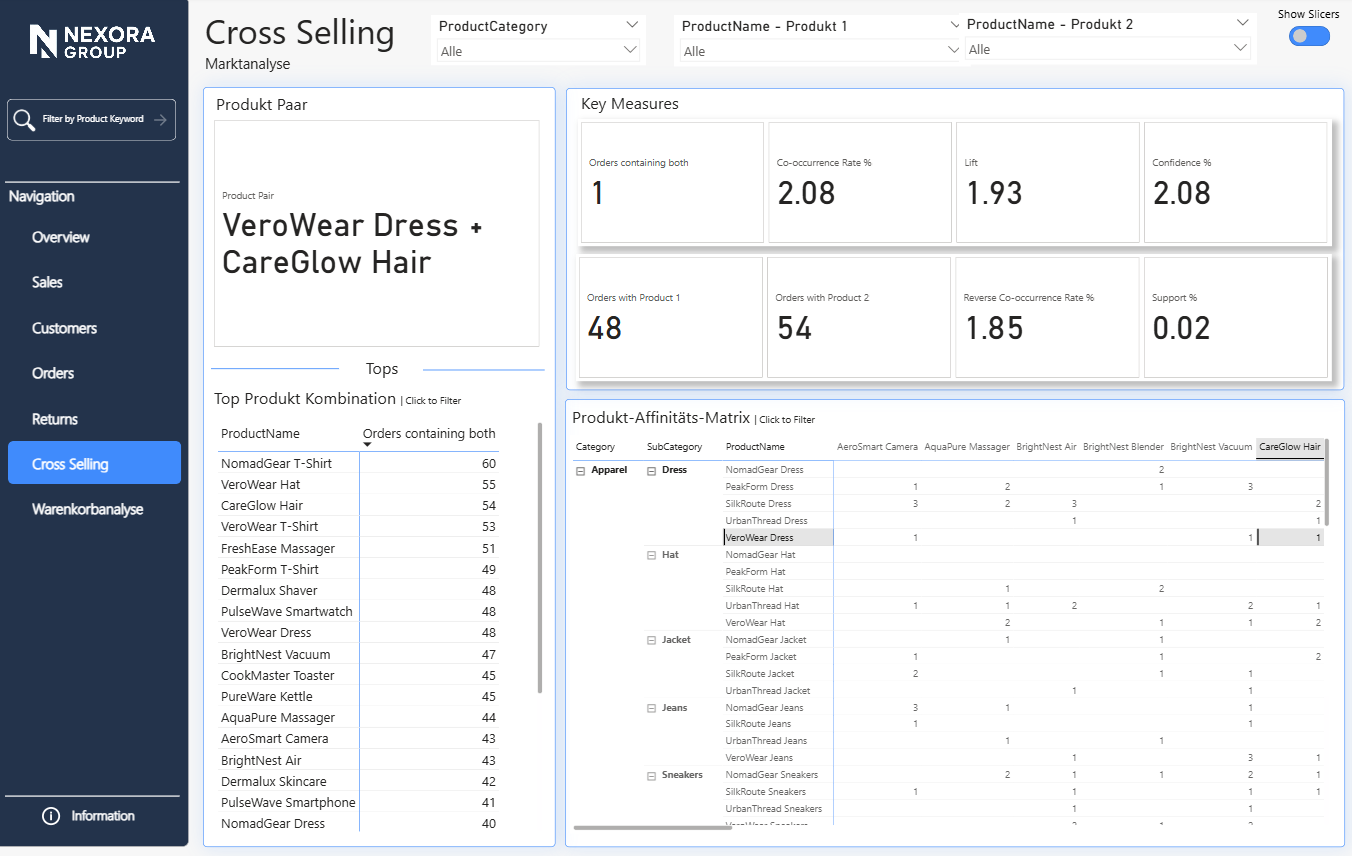

Layout of this report page (visuals, bound fields, positions):
{"tool":"powerbi","page":{"name":"Cross Selling","canvas":[2240,1420],"ordinal":5},"visuals":[{"type":"group","id":"g1","title":"Group 10","box":[0,0,320,1403],"z":0,"group":"g8"},{"type":"shape","box":[0,0,320,1403],"z":0,"group":"g1"},{"type":"group","id":"g2","title":"Group 2","box":[2132.3,43.9,73.7,39.6],"z":0,"group":"g10"},{"type":"group","id":"g3","title":"Group 1","box":[2135.6,47.2,68.3,33.3],"z":0,"group":"g2"},{"type":"shape","box":[2135.6,47.2,68.3,33.3],"z":0,"group":"g3"},{"type":"textbox","box":[359.9,152.4,392.9,52.9],"z":0,"group":"g7"},{"type":"shape","box":[20.6,168.5,279.3,68.5],"z":0,"group":"g9"},{"type":"textbox","box":[36.7,363.2,51.3,88.2],"z":0,"group":"g5"},{"type":"shape","box":[357.3,593.4,211.6,41.8],"z":0,"group":"g6"},{"type":"shape","box":[941.3,663.8,1287.8,740],"z":0},{"type":"textbox","box":[122.1,1331,162.8,50.2],"z":0,"group":"g4"},{"type":"textbox","box":[2112.8,9.9,113.3,37.8],"z":1000,"group":"g10"},{"type":"image","box":[18,27.7,282.3,95.2],"z":1000,"group":"g1"},{"type":"actionButton","box":[2132.3,43.9,75,40],"z":1000,"group":"g2"},{"type":"shape","box":[2142.8,52.2,22.8,22.8],"z":1000,"group":"g3"},{"type":"textbox","box":[962.4,150.1,394,48],"z":1000,"group":"g7"},{"type":"image","box":[22.8,176.8,54.3,53.9],"z":1000,"group":"g9"},{"type":"textbox","box":[18,306,162,50],"z":1000,"group":"g8"},{"type":"textbox","box":[36.7,461,51.3,71.1],"z":1000,"group":"g5"},{"type":"shape","box":[707.7,597.1,201.2,36.3],"z":1000,"group":"g6"},{"type":"shape","box":[382.4,678.5,203.6,41.8],"z":1000},{"type":"actionButton","box":[72,1332.7,39.8,39.8],"z":1000,"group":"g4"},{"type":"actionButton","box":[2127.3,41.6,79.1,41.4],"z":2000,"group":"g10"},{"type":"shape","box":[942.8,150.3,1284.6,498.7],"z":2000},{"type":"textSlicer","fields":{"Values":["dim_product.Product.Category"]},"box":[66.3,182.2,232.1,37.9],"z":2000,"group":"g9"},{"type":"pageNavigator","box":[21,357.9,286.3,525.5],"z":2000,"group":"g1"},{"type":"textbox","box":[36.7,544.1,51.3,88.2],"z":2000,"group":"g5"},{"type":"textbox","box":[566.6,587.7,145.5,48.5],"z":2000,"group":"g6"},{"type":"group","id":"g4","title":"Group 11","box":[72,1331,212.9,50.2],"z":2000,"group":"g8"},{"type":"group","id":"g5","title":"Group 9","box":[36.7,363.2,54.1,454],"z":3000,"group":"g1"},{"type":"textbox","box":[38.1,627.7,52.7,97.8],"z":3000,"group":"g5"},{"type":"shape","box":[719.7,682.2,193.6,36.4],"z":3000},{"type":"textbox","box":[38.1,723.9,49.9,93.3],"z":4000,"group":"g5"},{"type":"shape","box":[15.9,1316.1,287.5,29.4],"z":4000},{"type":"shape","box":[25.9,1326.1,287.5,29.4],"z":5000},{"type":"shape","box":[342.8,148.7,582.2,1255.1],"z":6000},{"type":"group","id":"g6","title":"Group 4","box":[357.3,587.7,551.4,47.2],"z":7000},{"type":"group","id":"g7","title":"Group 8","box":[359.9,150.1,996.5,55.2],"z":8000},{"type":"textbox","box":[948.1,668.4,440.3,60.1],"z":9000},{"type":"textbox","box":[341.8,13.2,516.8,125.5],"z":10000},{"type":"group","id":"g8","title":"Group 12","box":[0,0,320,1403],"z":11000},{"type":"shape","box":[16,1304,288,30],"z":12000},{"type":"shape","box":[16,290,288,30],"z":13000},{"type":"shape","box":[14,1017.9,288.1,139.7],"z":14000},{"type":"group","id":"g9","title":"Group 14","box":[20.6,168.5,279.3,68.5],"z":15000},{"type":"group","id":"g10","title":"Group 13","box":[2112.8,9.9,115,75],"z":21000},{"type":"slicer","fields":{"Values":["dim_product.Product.Category","dim_product.Product.SubCategory","dim_product.Product.Brand","dim_product.Product.ProductName"]},"box":[1120.9,29,489.7,85.2],"z":23000},{"type":"slicer","fields":{"Values":["dim_product_comparison.ProductName"]},"box":[1592.5,27.2,491.5,85.2],"z":24000},{"type":"cardVisual","fields":{"Data":["KPI_Summary_Table.Orders containing both","KPI_Summary_Table.Co-occurrence Rate %","KPI_Summary_Table.Lift","KPI_Summary_Table.Confidence %"]},"box":[962.6,201.4,1245,209.7],"z":25000},{"type":"cardVisual","fields":{"Data":["KPI_Summary_Table.Orders with Product 1","KPI_Summary_Table.Orders with Product 2","KPI_Summary_Table.Reverse Co-occurrence Rate %","KPI_Summary_Table.Support %"]},"box":[959.3,424.3,1248.3,209.7],"z":26000},{"type":"cardVisual","fields":{"Data":["KPI_Summary_Table.Product Pair"]},"box":[357.3,197.7,547.8,384.5],"z":27000},{"type":"pivotTable","fields":{"Rows":["dim_product.Product.Category","dim_product.Product.SubCategory","dim_product.Product.ProductName"],"Columns":["dim_product_comparison.ProductName"],"Values":["KPI_Summary_Table.Orders containing both"]},"box":[948.6,723.7,1258.8,658.4],"z":28000},{"type":"pivotTable","title":"Top Produkt Kombination","fields":{"Rows":["dim_product_comparison.ProductName"],"Values":["KPI_Summary_Table.Orders containing both"]},"box":[362.8,696.5,545.9,685.6],"z":29000},{"type":"textbox","box":[357.3,636.6,440.7,59.9],"z":30000},{"type":"slicer","fields":{"Values":["dim_product.Product.Category","dim_product.Product.SubCategory"]},"box":[720.1,29,355.5,83.4],"z":31000}]}

Visuals, with their boxes on the page's 2240x1420 design canvas (x1, y1, x2, y2). These are canvas units, not pixel positions in the 1352x856 screenshot, which may show the page scaled, cropped or inside an application window:
"Group 10" group: detection(0, 0, 320, 1403)
shape: detection(0, 0, 320, 1403)
"Group 2" group: detection(2132, 44, 2206, 84)
"Group 1" group: detection(2136, 47, 2204, 80)
shape: detection(2136, 47, 2204, 80)
textbox: detection(360, 152, 753, 205)
shape: detection(21, 168, 300, 237)
textbox: detection(37, 363, 88, 451)
shape: detection(357, 593, 569, 635)
shape: detection(941, 664, 2229, 1404)
textbox: detection(122, 1331, 285, 1381)
textbox: detection(2113, 10, 2226, 48)
image: detection(18, 28, 300, 123)
actionButton: detection(2132, 44, 2207, 84)
shape: detection(2143, 52, 2166, 75)
textbox: detection(962, 150, 1356, 198)
image: detection(23, 177, 77, 231)
textbox: detection(18, 306, 180, 356)
textbox: detection(37, 461, 88, 532)
shape: detection(708, 597, 909, 633)
shape: detection(382, 678, 586, 720)
actionButton: detection(72, 1333, 112, 1372)
actionButton: detection(2127, 42, 2206, 83)
shape: detection(943, 150, 2227, 649)
textSlicer - dim_product.Product.Category: detection(66, 182, 298, 220)
pageNavigator: detection(21, 358, 307, 883)
textbox: detection(37, 544, 88, 632)
textbox: detection(567, 588, 712, 636)
"Group 11" group: detection(72, 1331, 285, 1381)
"Group 9" group: detection(37, 363, 91, 817)
textbox: detection(38, 628, 91, 726)
shape: detection(720, 682, 913, 719)
textbox: detection(38, 724, 88, 817)
shape: detection(16, 1316, 303, 1346)
shape: detection(26, 1326, 313, 1356)
shape: detection(343, 149, 925, 1404)
"Group 4" group: detection(357, 588, 909, 635)
"Group 8" group: detection(360, 150, 1356, 205)
textbox: detection(948, 668, 1388, 728)
textbox: detection(342, 13, 859, 139)
"Group 12" group: detection(0, 0, 320, 1403)
shape: detection(16, 1304, 304, 1334)
shape: detection(16, 290, 304, 320)
shape: detection(14, 1018, 302, 1158)
"Group 14" group: detection(21, 168, 300, 237)
"Group 13" group: detection(2113, 10, 2228, 85)
slicer - dim_product.Product.Category x dim_product.Product.SubCategory: detection(1121, 29, 1611, 114)
slicer - dim_product_comparison.ProductName: detection(1592, 27, 2084, 112)
cardVisual - KPI_Summary_Table.Orders containing both x KPI_Summary_Table.Co-occurrence Rate %: detection(963, 201, 2208, 411)
cardVisual - KPI_Summary_Table.Orders with Product 1 x KPI_Summary_Table.Orders with Product 2: detection(959, 424, 2208, 634)
cardVisual - KPI_Summary_Table.Product Pair: detection(357, 198, 905, 582)
pivotTable - dim_product.Product.Category x dim_product.Product.SubCategory: detection(949, 724, 2207, 1382)
"Top Produkt Kombination" pivotTable: detection(363, 696, 909, 1382)
textbox: detection(357, 637, 798, 696)
slicer - dim_product.Product.Category x dim_product.Product.SubCategory: detection(720, 29, 1076, 112)
